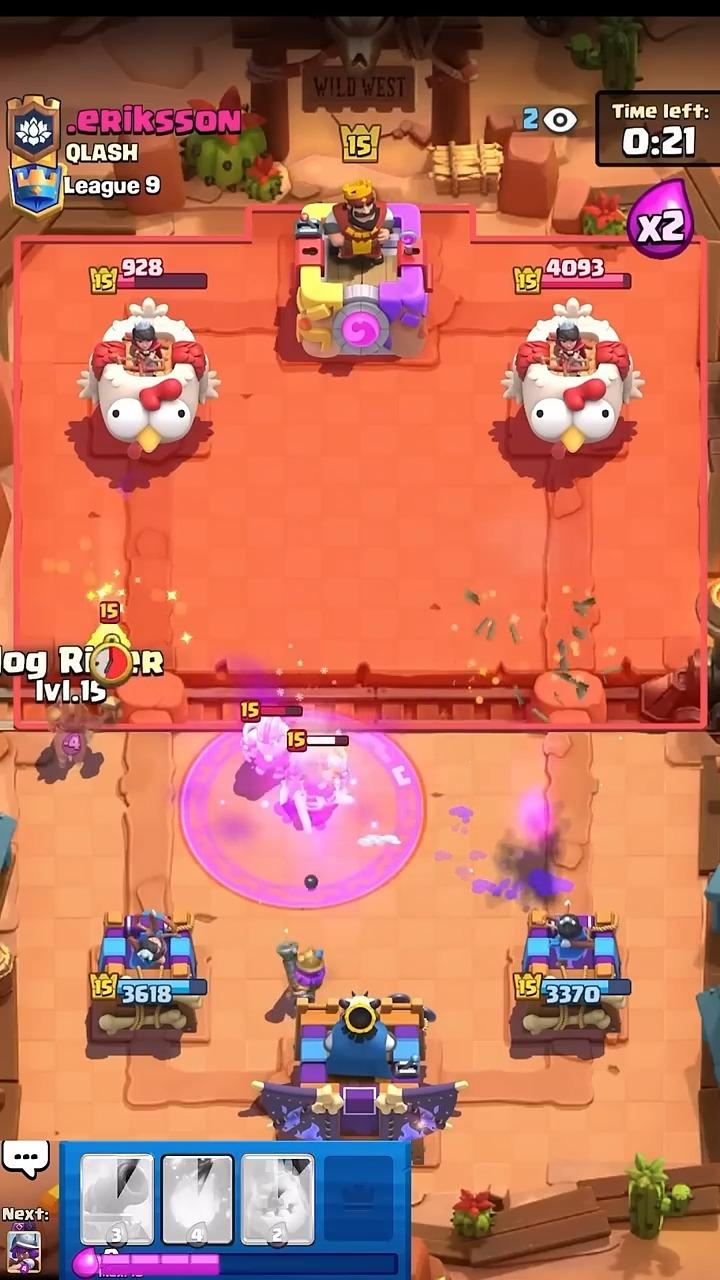elite barbarians: (276, 747, 354, 834), (242, 719, 287, 779)
heal spirit: (87, 621, 130, 647)
musketeer: (276, 941, 324, 1006)
rage: (179, 709, 424, 909)
